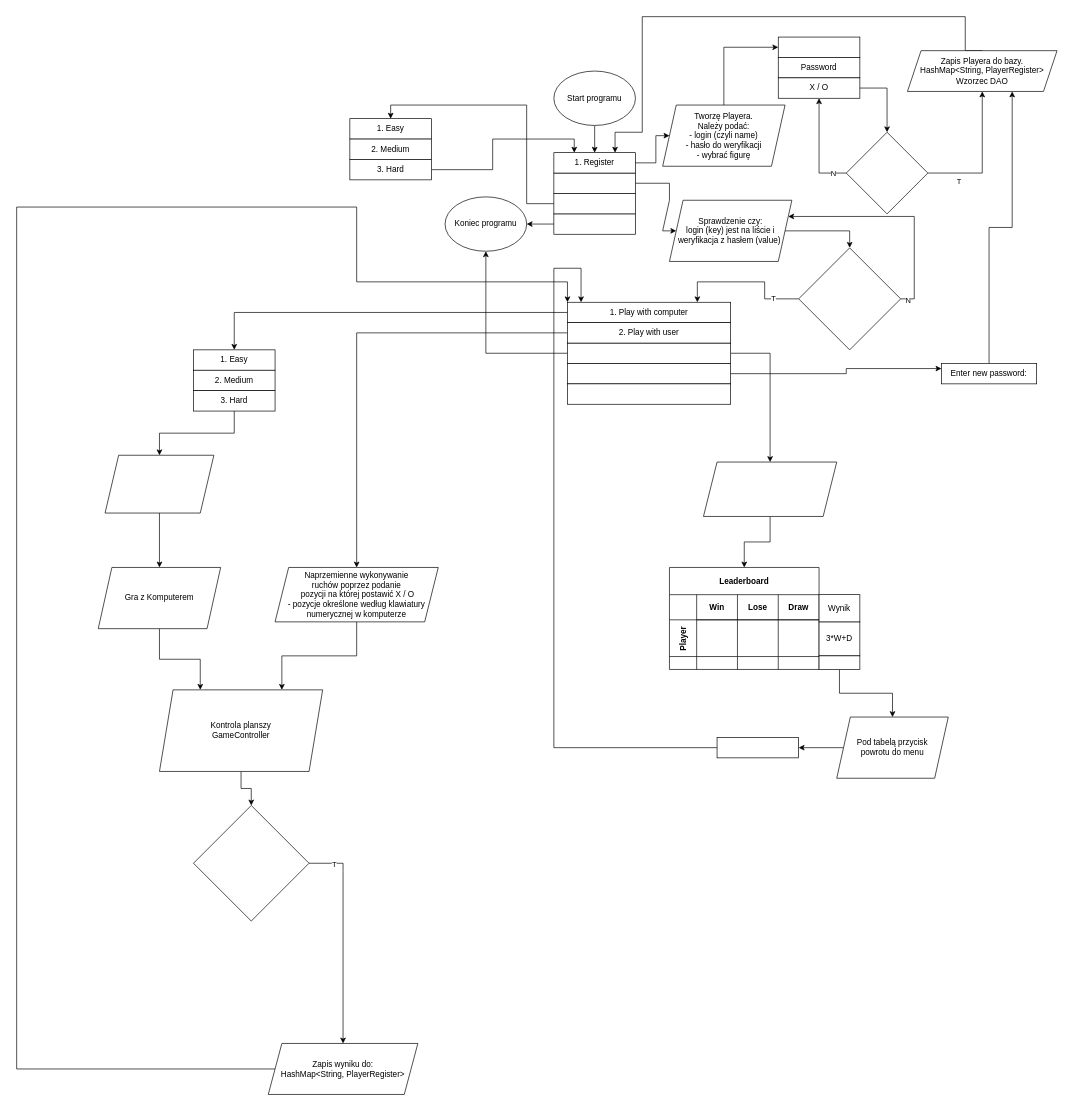
The diagram is 1069 pixels wide and 1106 high, and some of its shapes have lost their labels. The centre of each missing label's shape, as x and y in pixels:
"2. Sign in" goes at point 594,182.
"3. Play now" goes at point 594,203.
"3. Show Statistic" goes at point 649,352.
"4. Change Password" goes at point 649,373.
"4. Exit" goes at point 594,223.
"5. Exit" goes at point 649,393.
"Back" goes at point 757,747.
"Czy poprawne dane?" goes at point 849,298.
"Czy X / O jest podane OK?" goes at point 887,173.
"Gdy ktoś wygra?" goes at point 251,863.
"Login" goes at point 819,46.
"Wyświetlenie tablicy wyników w postaci:" goes at point 770,488.
"Zaimplementowanie sztucznej inteligencji." goes at point 159,484.
